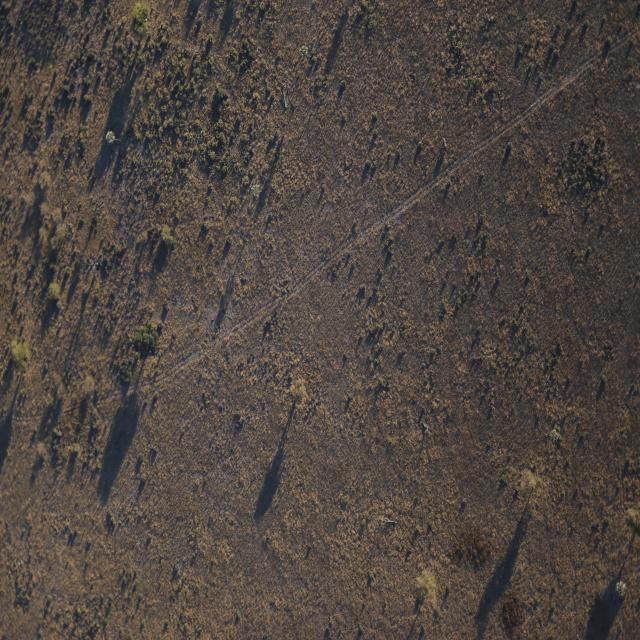elephant: (442, 137, 447, 149)
